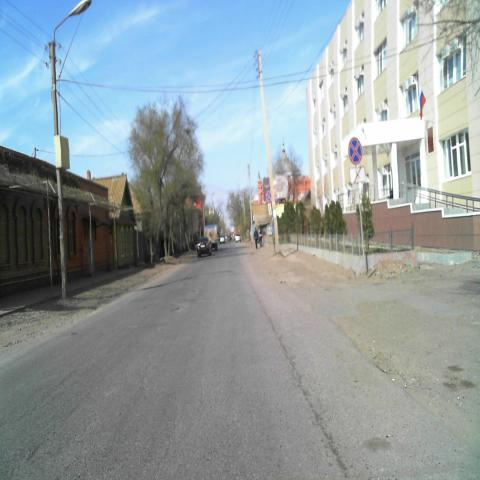8_18: (349, 166, 366, 182)
